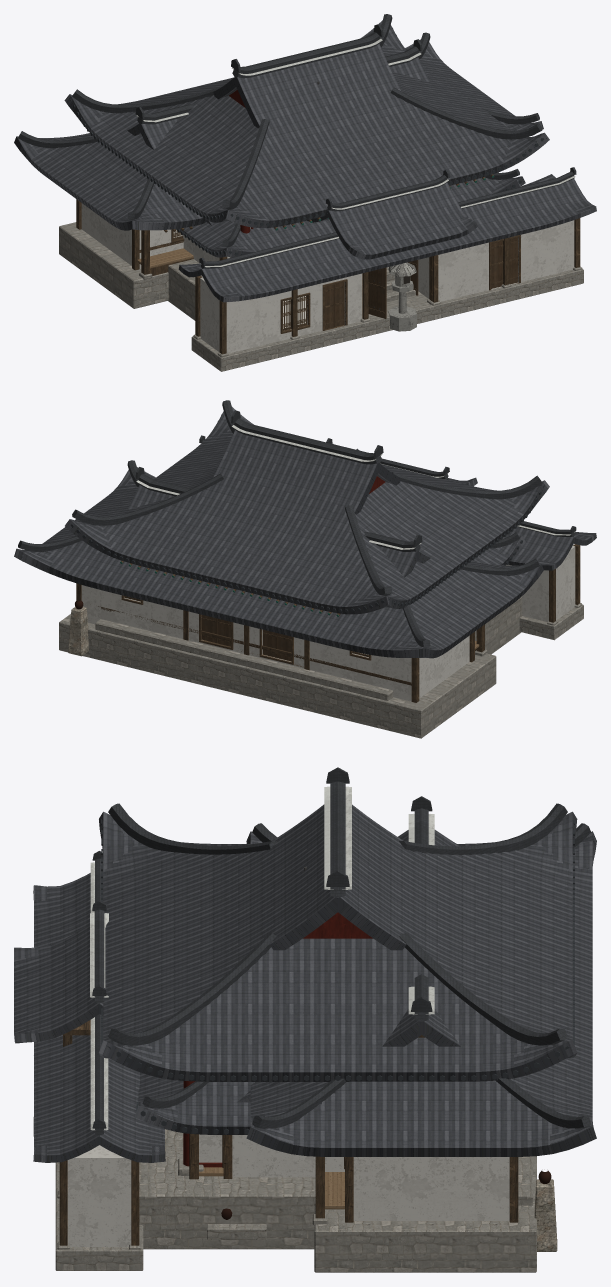
Rendered from eastasia_korea.glb.
3 renders of one model, top to bottom at view 1: azimuth 30°, elevation 25°; view 2: azimuth 150°, elevation 25°; view 3: azimuth 270°, elevation 25°, orthographic. The views are drawn at different scales.
Visible parts, largest first — view 1: courtyard_estate_mesh, temple_ea_mesh, house_tile_ea_mesh; view 2: courtyard_estate_mesh, temple_ea_mesh, house_tile_ea_mesh; view 3: temple_ea_mesh, courtyard_estate_mesh, house_tile_ea_mesh.
Part boxes in pixels (x1,y1,x2,y2): courtyard_estate_mesh: [14, 32, 596, 371]; temple_ea_mesh: [64, 14, 549, 331]; house_tile_ea_mesh: [175, 169, 525, 263]; courtyard_estate_mesh: [14, 435, 596, 738]; temple_ea_mesh: [65, 400, 549, 700]; house_tile_ea_mesh: [471, 532, 525, 565]; temple_ea_mesh: [33, 767, 577, 1249]; courtyard_estate_mesh: [14, 796, 596, 1272]; house_tile_ea_mesh: [134, 1072, 344, 1179].
Bounding box in the file's own units: 17.73 × 9 × 14.66.
21 materials, 15 textured.
